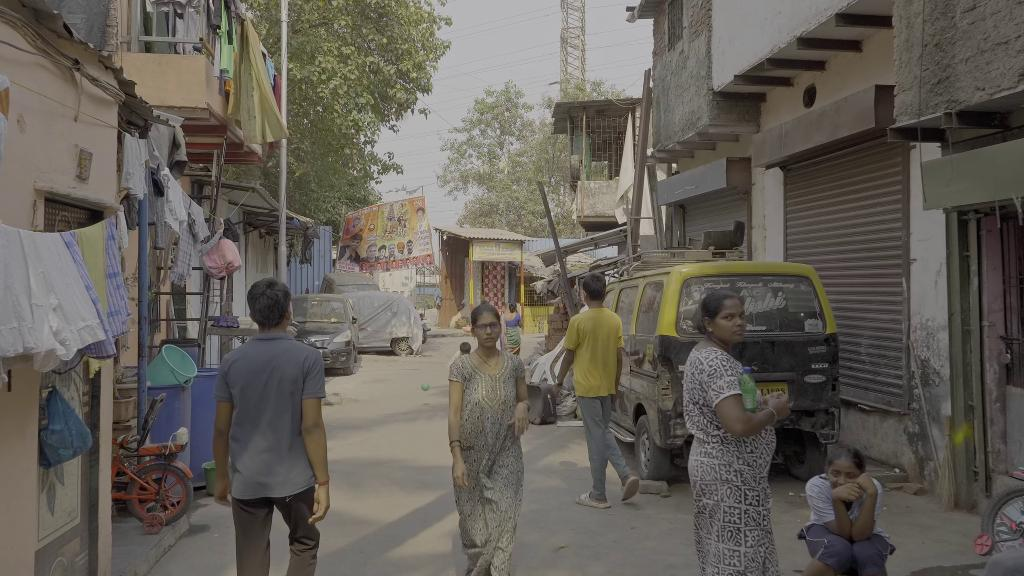garbage: (740, 365, 760, 413)
